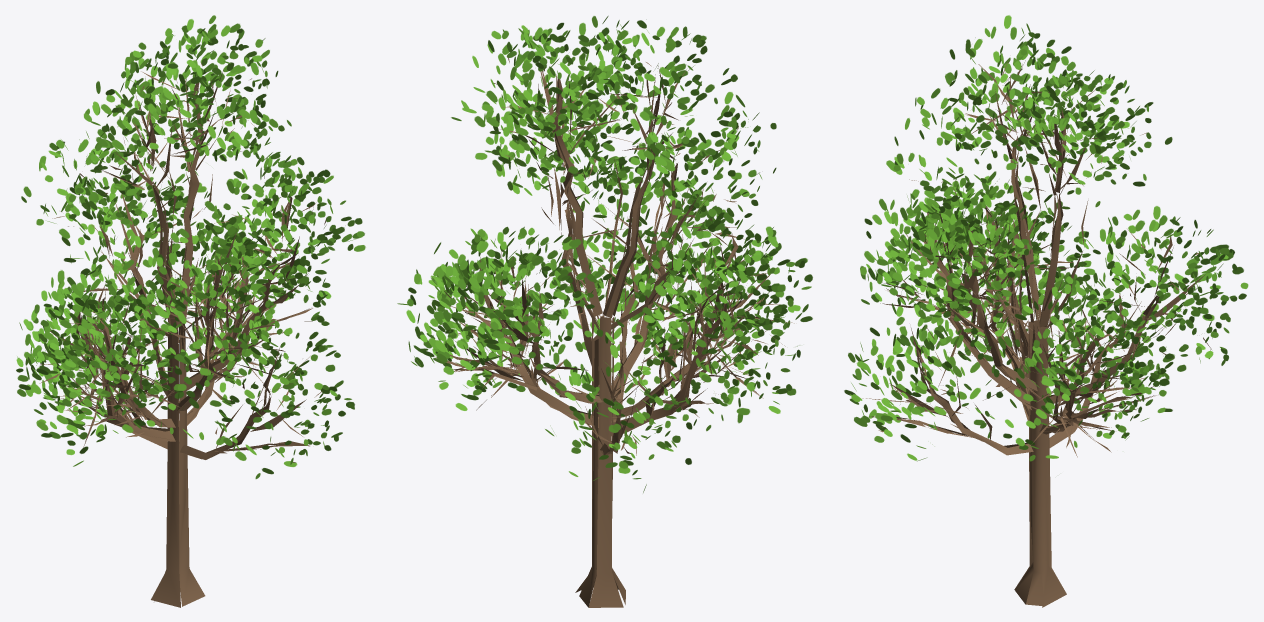
File: tree.glb
The picture shows the model from 3 angles, left to right: view 1: azimuth 30°, elevation 25°; view 2: azimuth 150°, elevation 25°; view 3: azimuth 270°, elevation 25°; orthographic projection. The views are drawn at different scales.
Parts seen in each view (by area): view 1: oak 01.001; view 2: oak 01.001; view 3: oak 01.001.
Part boxes in pixels (x1,y1,x2,y2): oak 01.001: [16, 15, 365, 607]; oak 01.001: [397, 16, 812, 607]; oak 01.001: [844, 15, 1248, 607].
Size of the model in its own units: 0.3557 by 0.5597 by 0.3735.
2 materials, 1 textured.
